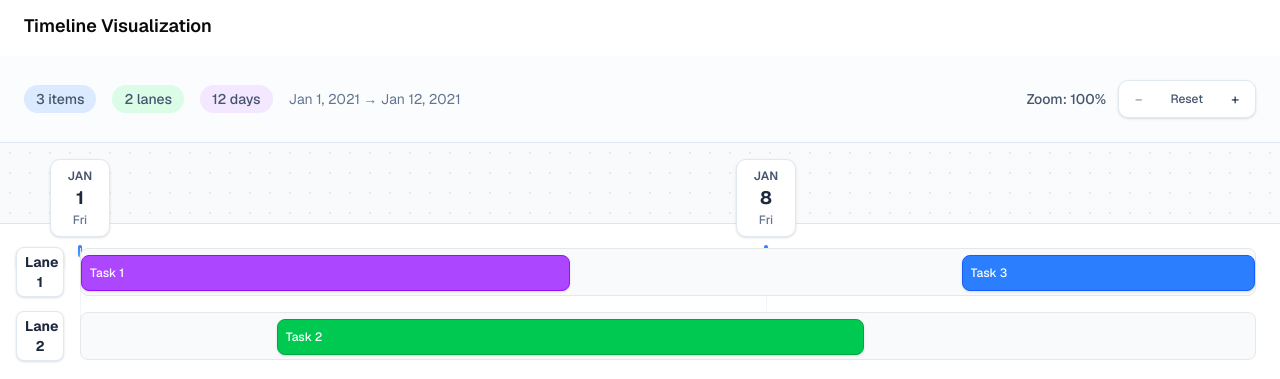
Timeline Integration Tests › should preserve zoom level during editing
The image size is (1280, 379).
Click the button "+" at (1235, 99), box [1219,85,1251,113]
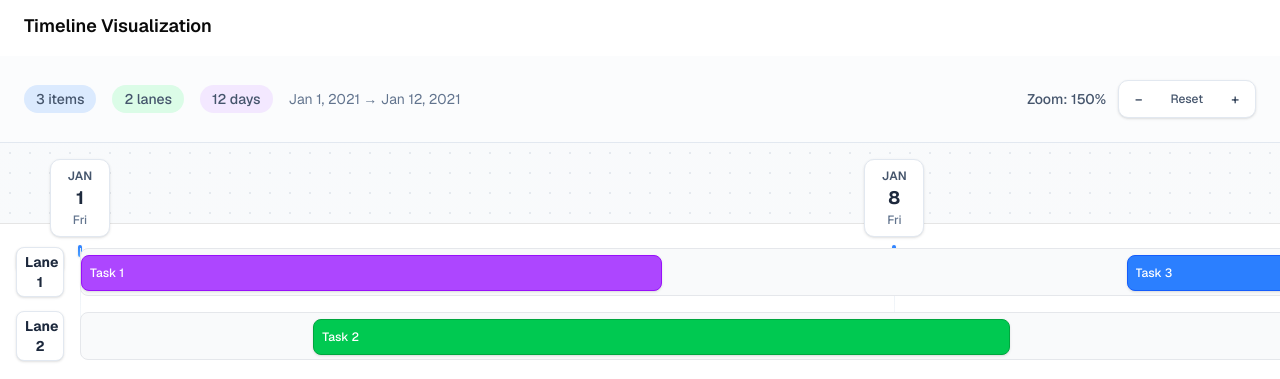
Expected: the text "Zoom: 150%" is shown, [1027,89,1106,109]
Click the text "Task 1" at (107, 273), box [90,265,124,281]
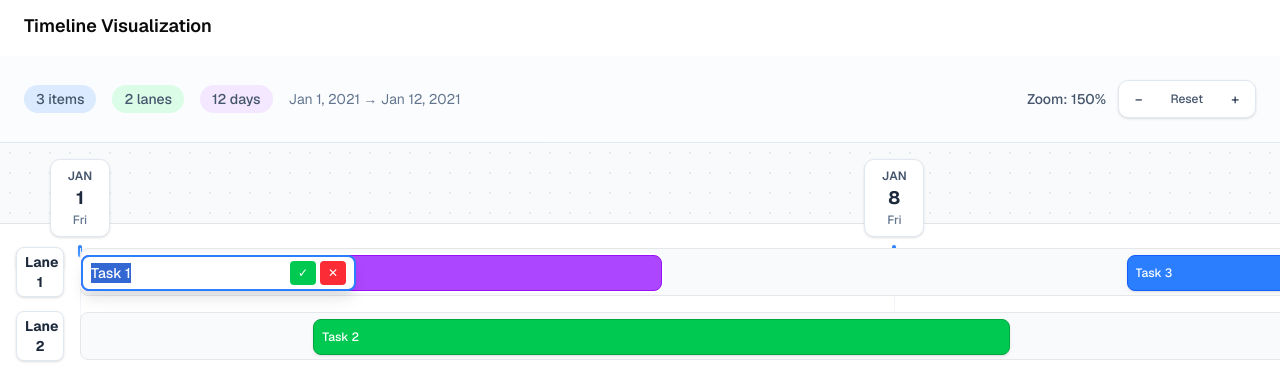
Expected: the text "Zoom: 150%" is shown, [1027,89,1106,109]
Expected: the field showing "Task 1" is shown, [91,263,282,283]
